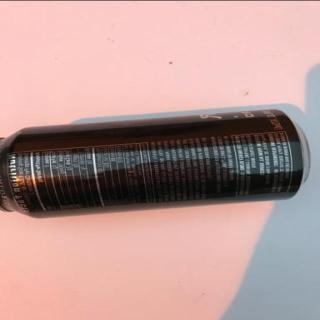Anorganik: (3, 109, 312, 210)
